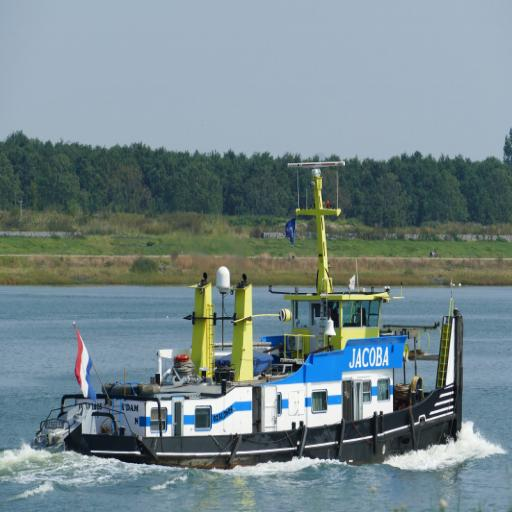tugboat: (30, 159, 468, 481)
